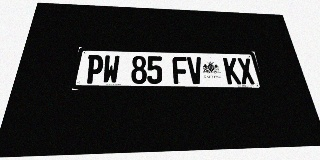5: (147, 56, 163, 84)
8: (131, 56, 147, 84)
F: (172, 56, 189, 84)
K: (223, 58, 242, 84)
P: (85, 55, 104, 84)
V: (187, 57, 204, 84)
W: (102, 55, 120, 84)
X: (237, 58, 256, 84)
